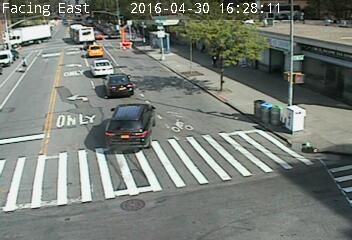neg: (267, 102, 286, 128), (249, 98, 267, 122), (322, 64, 340, 88), (119, 191, 137, 215), (172, 115, 189, 139), (209, 50, 225, 71), (69, 89, 83, 108), (156, 41, 170, 60), (251, 53, 264, 71), (184, 51, 197, 68), (15, 53, 28, 69), (302, 134, 314, 150)
